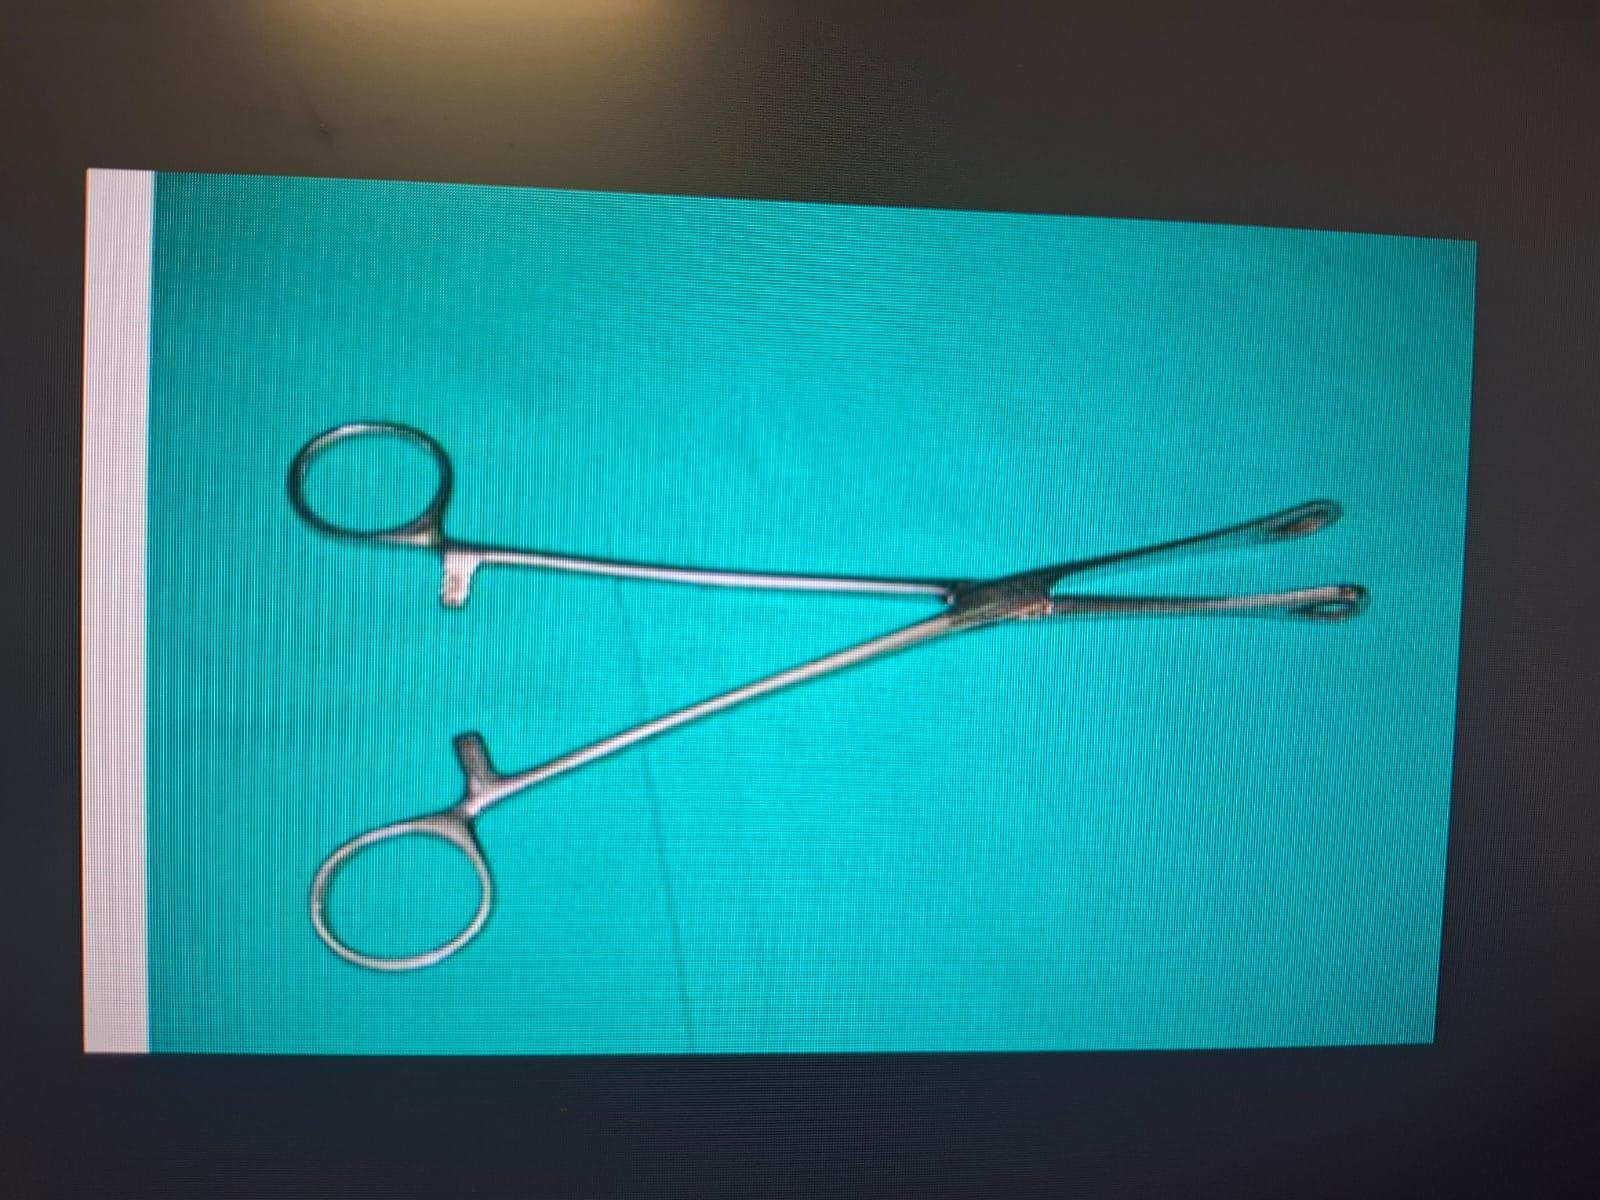Sponge Holding Forceps: (272, 396, 1382, 996)
